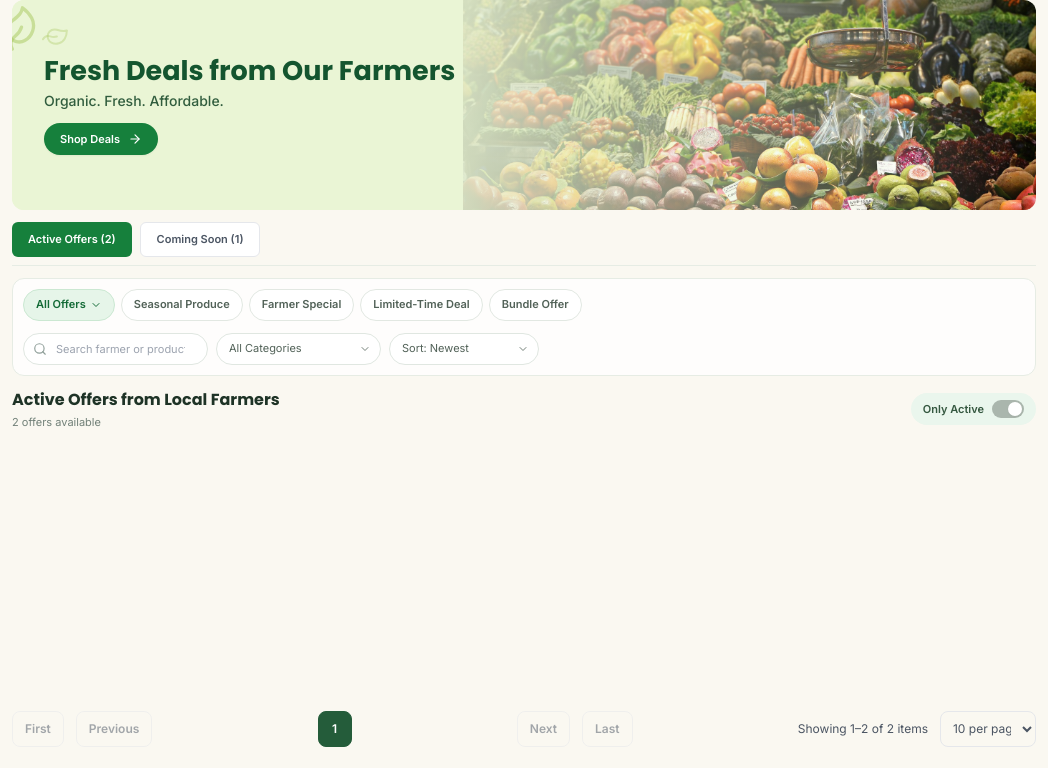
Customer Offers › switches to Coming Soon tab
Click the button "Coming Soon (1)": (200, 239) [140,222,260,256]
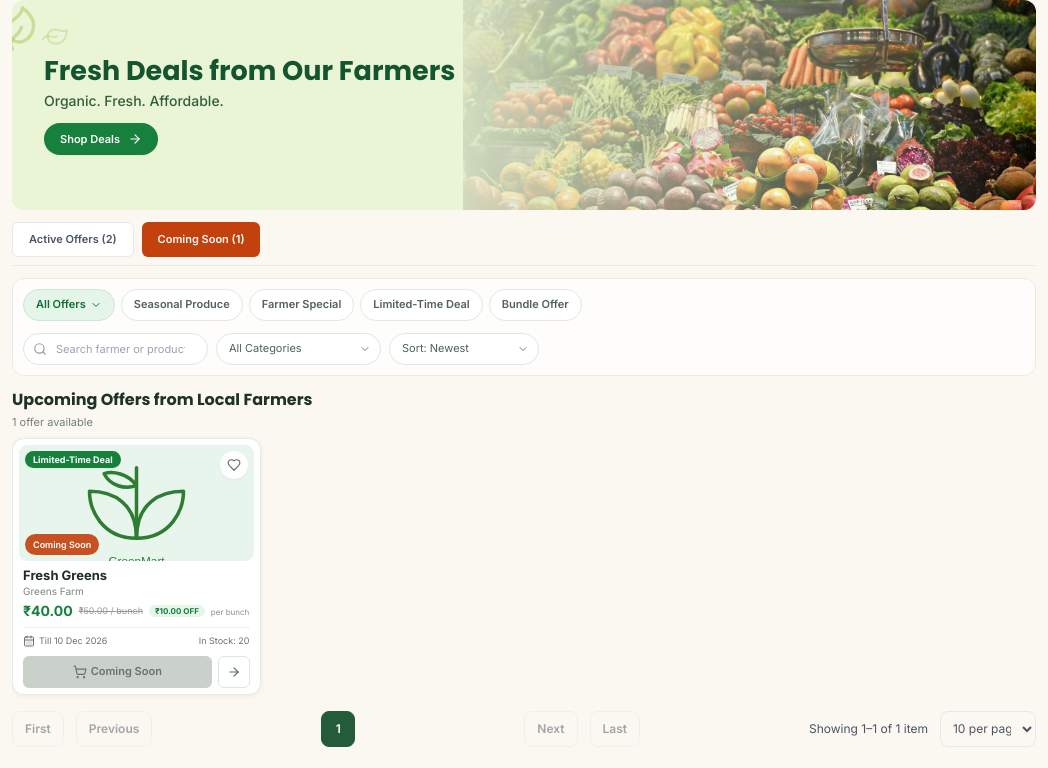
Check: the link "Fresh Greens" is shown, box [23,567,107,583]
